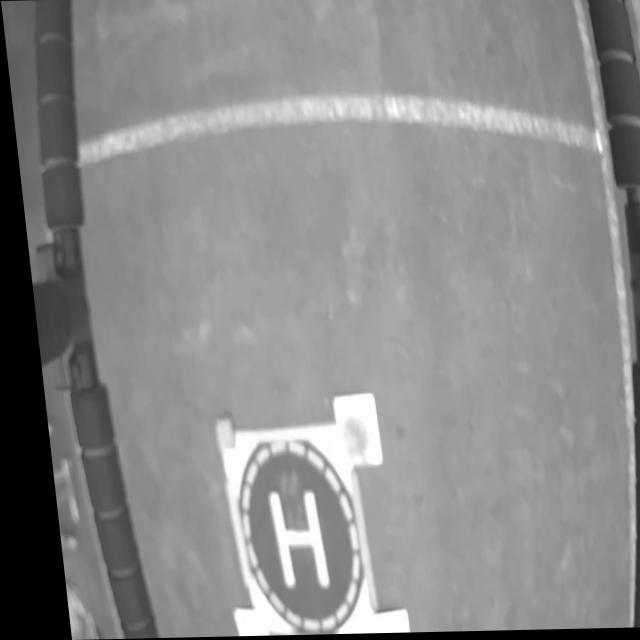Helipad: (252, 489, 315, 590)
